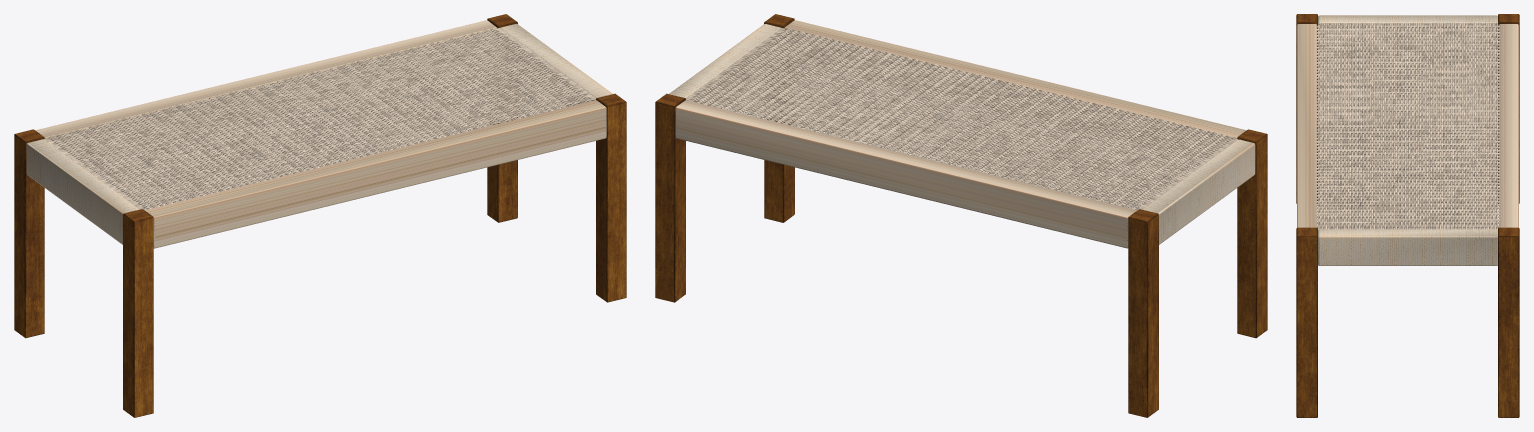
The model's file is B0857JZJPR.glb.
3 renders of one model, left to right at view 1: azimuth 30°, elevation 25°; view 2: azimuth 150°, elevation 25°; view 3: azimuth 270°, elevation 25°, orthographic. The views are drawn at different scales.
Visible parts, largest first — view 1: RootNode; view 2: RootNode; view 3: RootNode.
Part boxes in pixels (box(x1,y1,x2,y2)): RootNode: box(14, 14, 626, 417); RootNode: box(655, 14, 1267, 417); RootNode: box(1296, 14, 1519, 417).
Size of the model in its own units: 1.2 by 0.4573 by 0.5072.
1 material, 1 textured.
